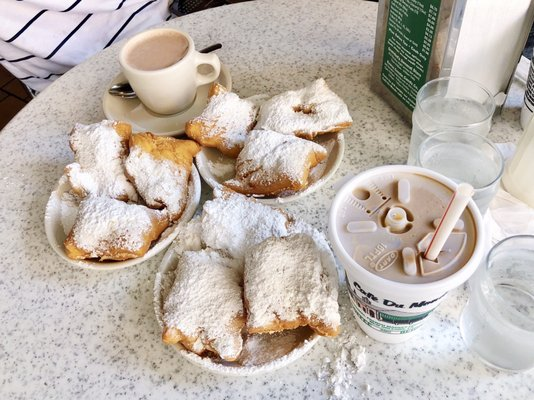pizza: (113, 25, 222, 115)
